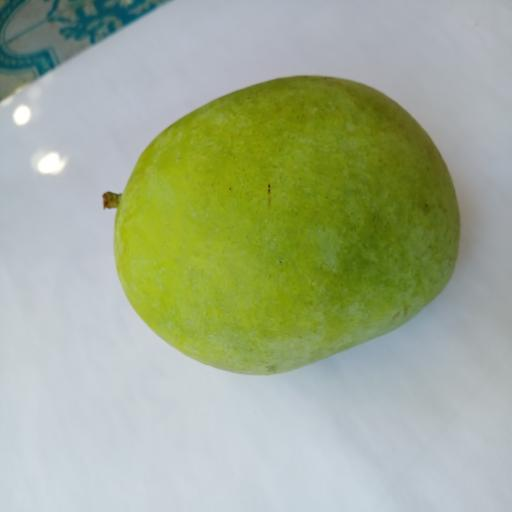mango-unripe: (81, 73, 489, 382)
